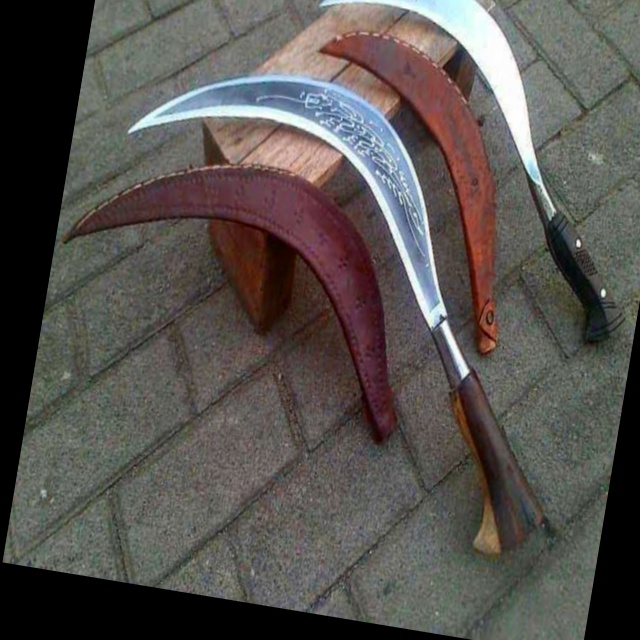Sharp-Object: (65, 41, 614, 563), (268, 0, 640, 343)
